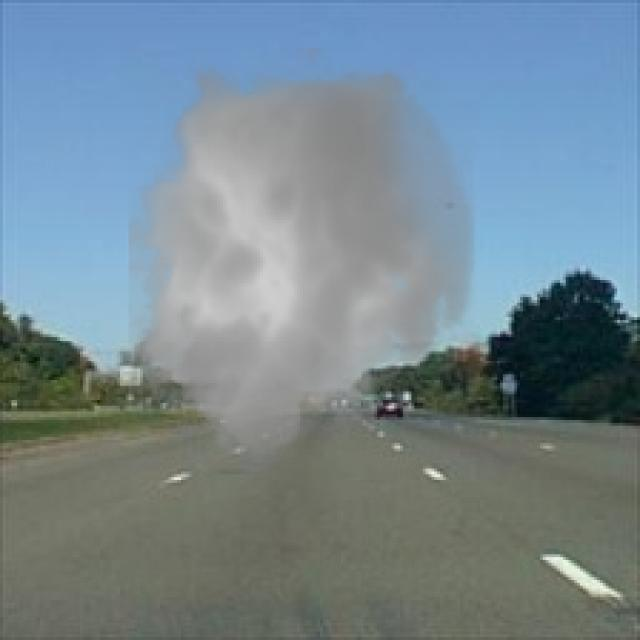smoke: (111, 49, 488, 474)
